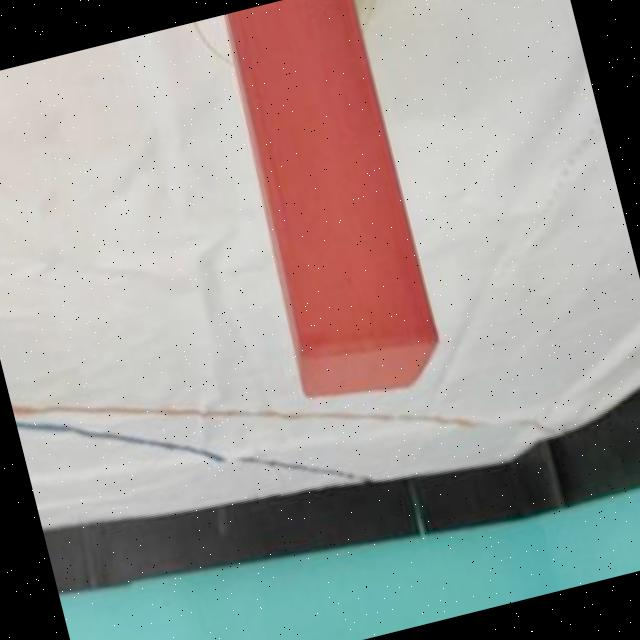redbox: (211, 0, 449, 415)
